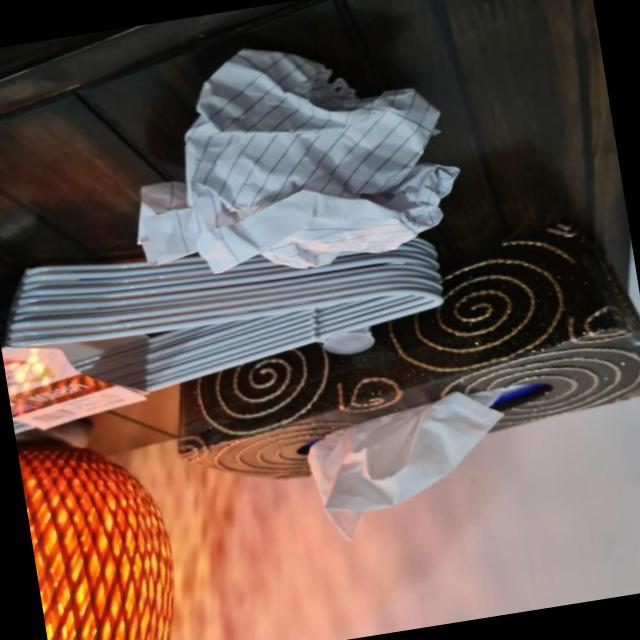cardboard paper: (136, 51, 456, 273), (306, 391, 500, 540)
